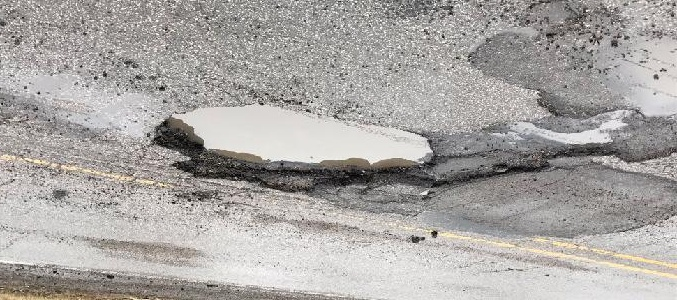pothole: (150, 102, 442, 197), (543, 106, 677, 168)
